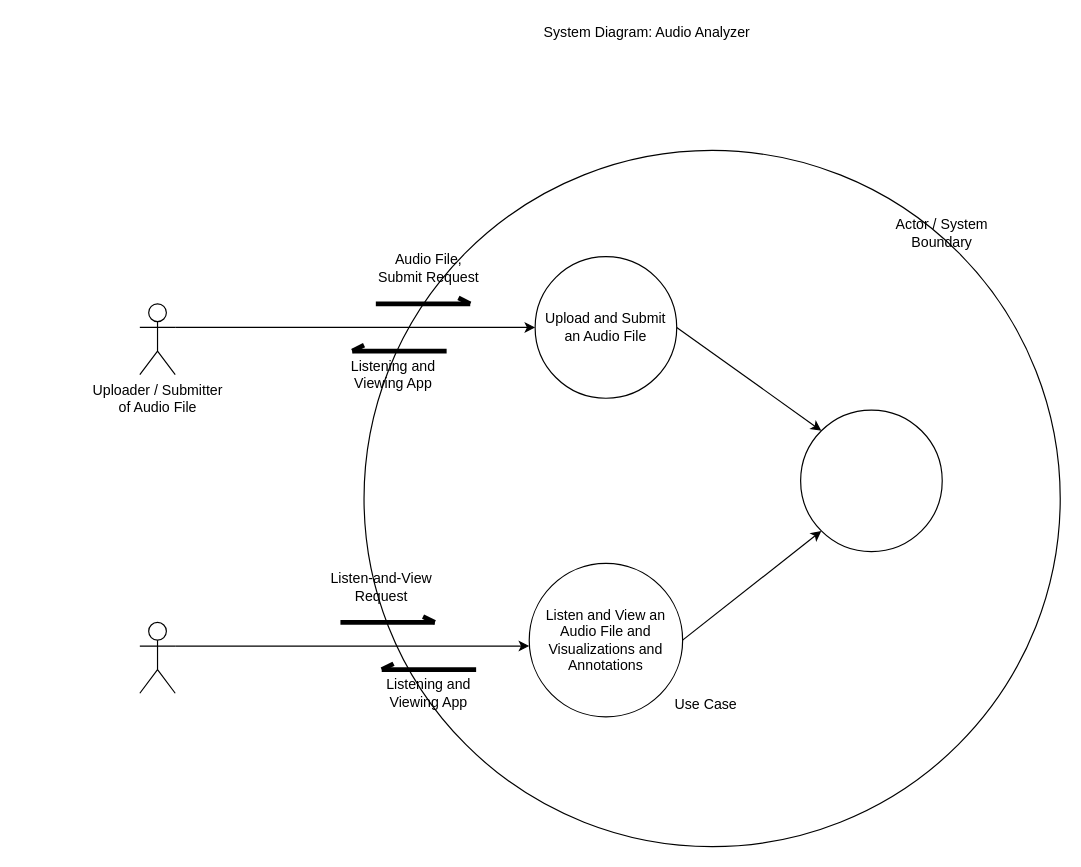
Some shapes in this 1081 by 867 pixel diagram are drawn without their labels. The shapes that lost their labels are listed below. From the top down, each one's centre as x and y in pixels, then its label:
pixel 870 480: Present Listening and Viewing App
pixel 157 657: Listener / Viewer of Audio and Visualizations and Annotations
